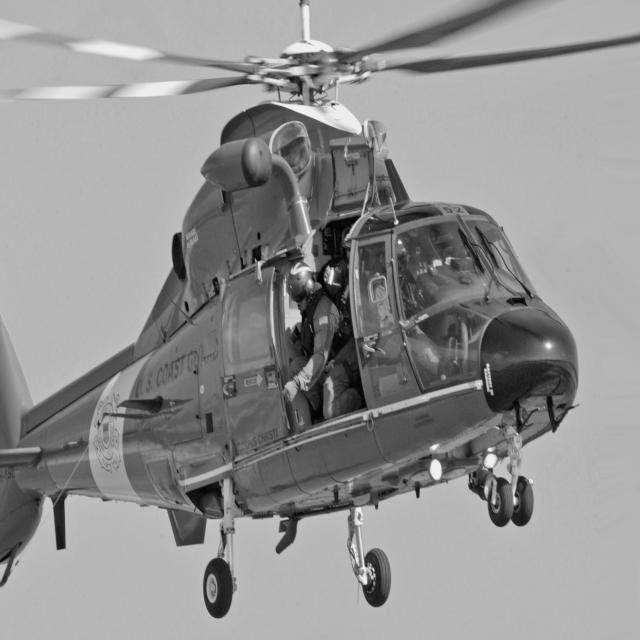helicopter: (1, 1, 592, 615)
